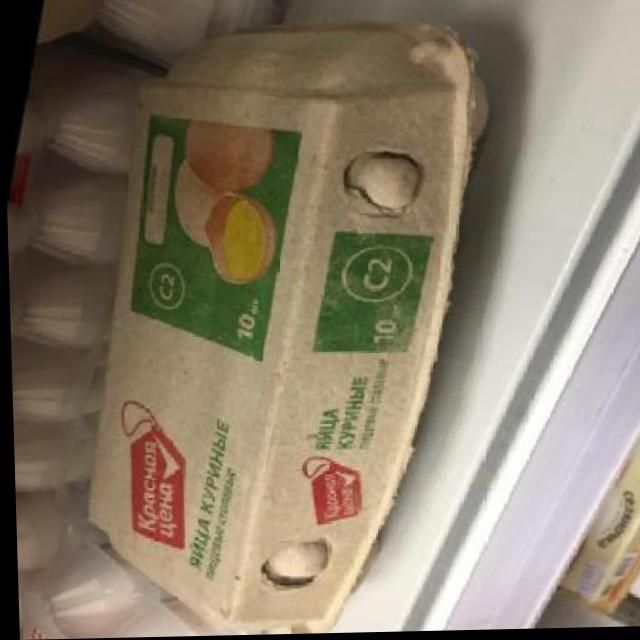Egg: (34, 0, 523, 639), (13, 538, 259, 640)
